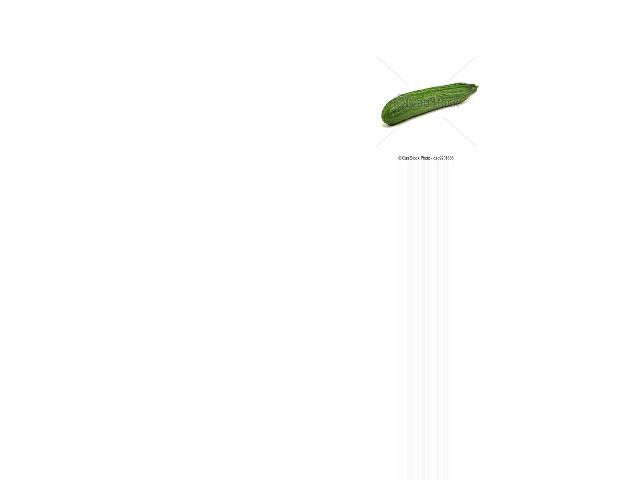cucumber: (382, 83, 479, 125)
